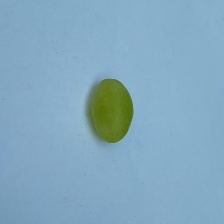grapes: (24, 30, 171, 215)
